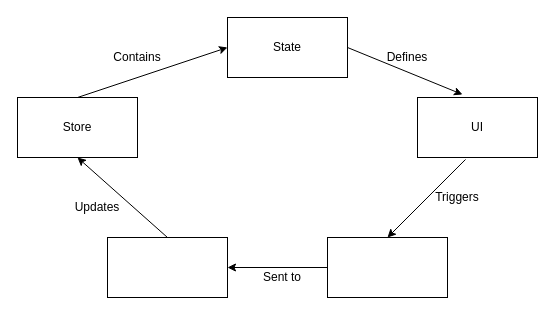
Image size: 555x315. Some labels were removed from this diagram. Each missing label, with the box of its shape:
Actions: (326, 236, 448, 298)
Reducer: (106, 236, 228, 298)
